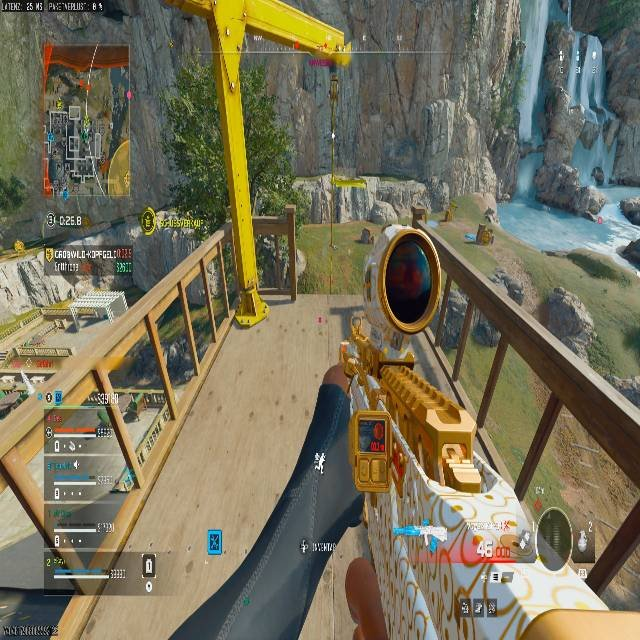player: (359, 226, 371, 243)
